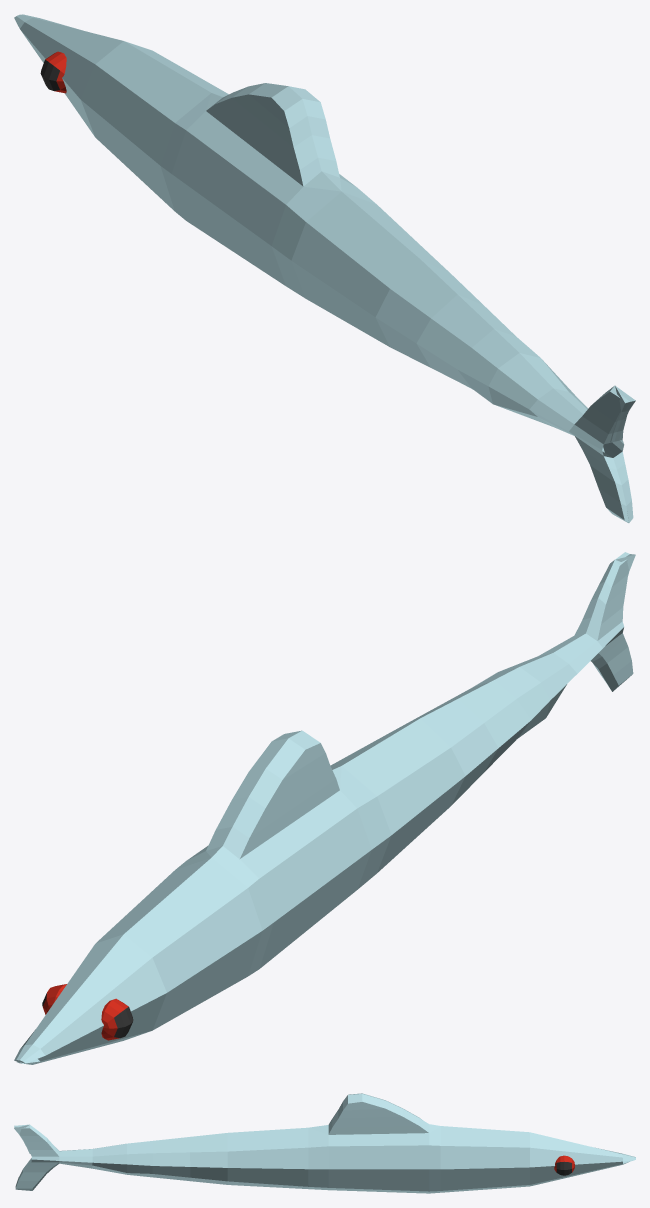
Rendered from sanma.fbx.
3 renders of one model, top to bottom at view 1: azimuth 30°, elevation 25°; view 2: azimuth 150°, elevation 25°; view 3: azimuth 270°, elevation 25°, orthographic. The views are drawn at different scales.
Visible parts, largest first — view 1: Cylinder, Sphere.001; view 2: Cylinder, Sphere.001; view 3: Cylinder, Sphere.
Part boxes in pixels (<box>): Cylinder: <box>14,14,635,523</box>; Sphere.001: <box>40,51,66,93</box>; Cylinder: <box>14,552,635,1064</box>; Sphere.001: <box>101,998,133,1040</box>; Cylinder: <box>14,1093,635,1193</box>; Sphere: <box>554,1155,574,1175</box>.
Bounding box in the file's own units: 88.07 × 161 × 911.
